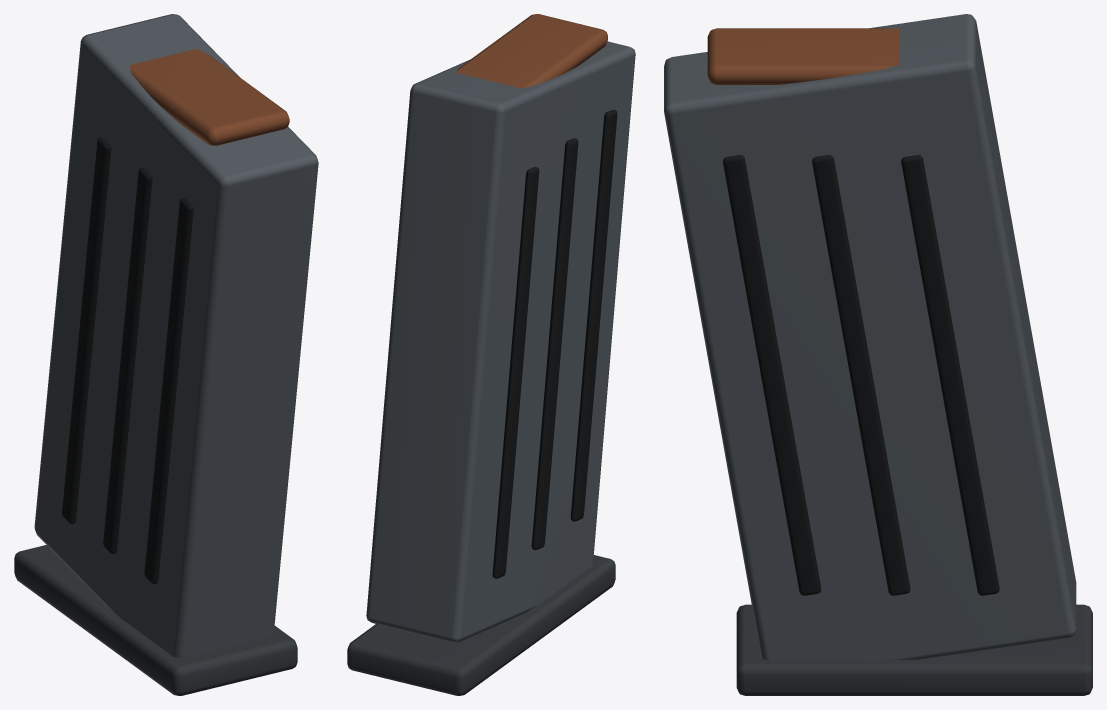
The model's file is rifle_magazine.glb.
The picture shows the model from 3 angles, left to right: view 1: azimuth 30°, elevation 25°; view 2: azimuth 150°, elevation 25°; view 3: azimuth 270°, elevation 25°; orthographic projection. The views are drawn at different scales.
Visible parts, largest first — view 1: Magazine_shell, Magazine_baseplate, Follower, Pressed_rib.001, Pressed_rib.002, Pressed_rib; view 2: Magazine_shell, Magazine_baseplate, Follower, Pressed_rib, Pressed_rib.001, Pressed_rib.002; view 3: Magazine_shell, Magazine_baseplate, Pressed_rib.004, Pressed_rib.005, Pressed_rib.003, Follower.
Part boxes in pixels (x1,y1,x2,y2): Magazine_shell: (34, 14, 318, 657); Magazine_baseplate: (14, 545, 297, 695); Follower: (129, 48, 289, 145); Pressed_rib.001: (103, 168, 152, 554); Pressed_rib.002: (62, 137, 111, 523); Pressed_rib: (144, 198, 193, 584); Magazine_shell: (366, 41, 635, 642); Magazine_baseplate: (347, 555, 615, 695); Follower: (456, 14, 607, 88); Pressed_rib: (570, 109, 617, 521); Pressed_rib.001: (531, 138, 578, 550); Pressed_rib.002: (492, 167, 539, 578); Magazine_shell: (664, 14, 1076, 660); Magazine_baseplate: (736, 604, 1092, 695); Pressed_rib.004: (812, 155, 910, 595); Pressed_rib.005: (901, 155, 999, 595); Pressed_rib.003: (723, 155, 821, 595); Follower: (707, 28, 899, 84).
Bounding box in the file's own units: 0.035 × 0.1559 × 0.0963.
